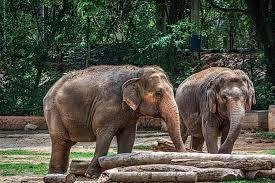elephant: (44, 65, 255, 176)
